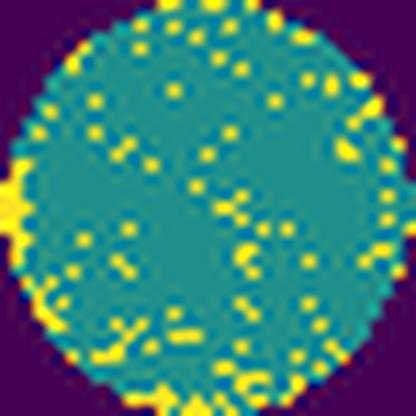Edge-Loc: (0, 154, 41, 271), (123, 379, 181, 416), (176, 386, 236, 416)
